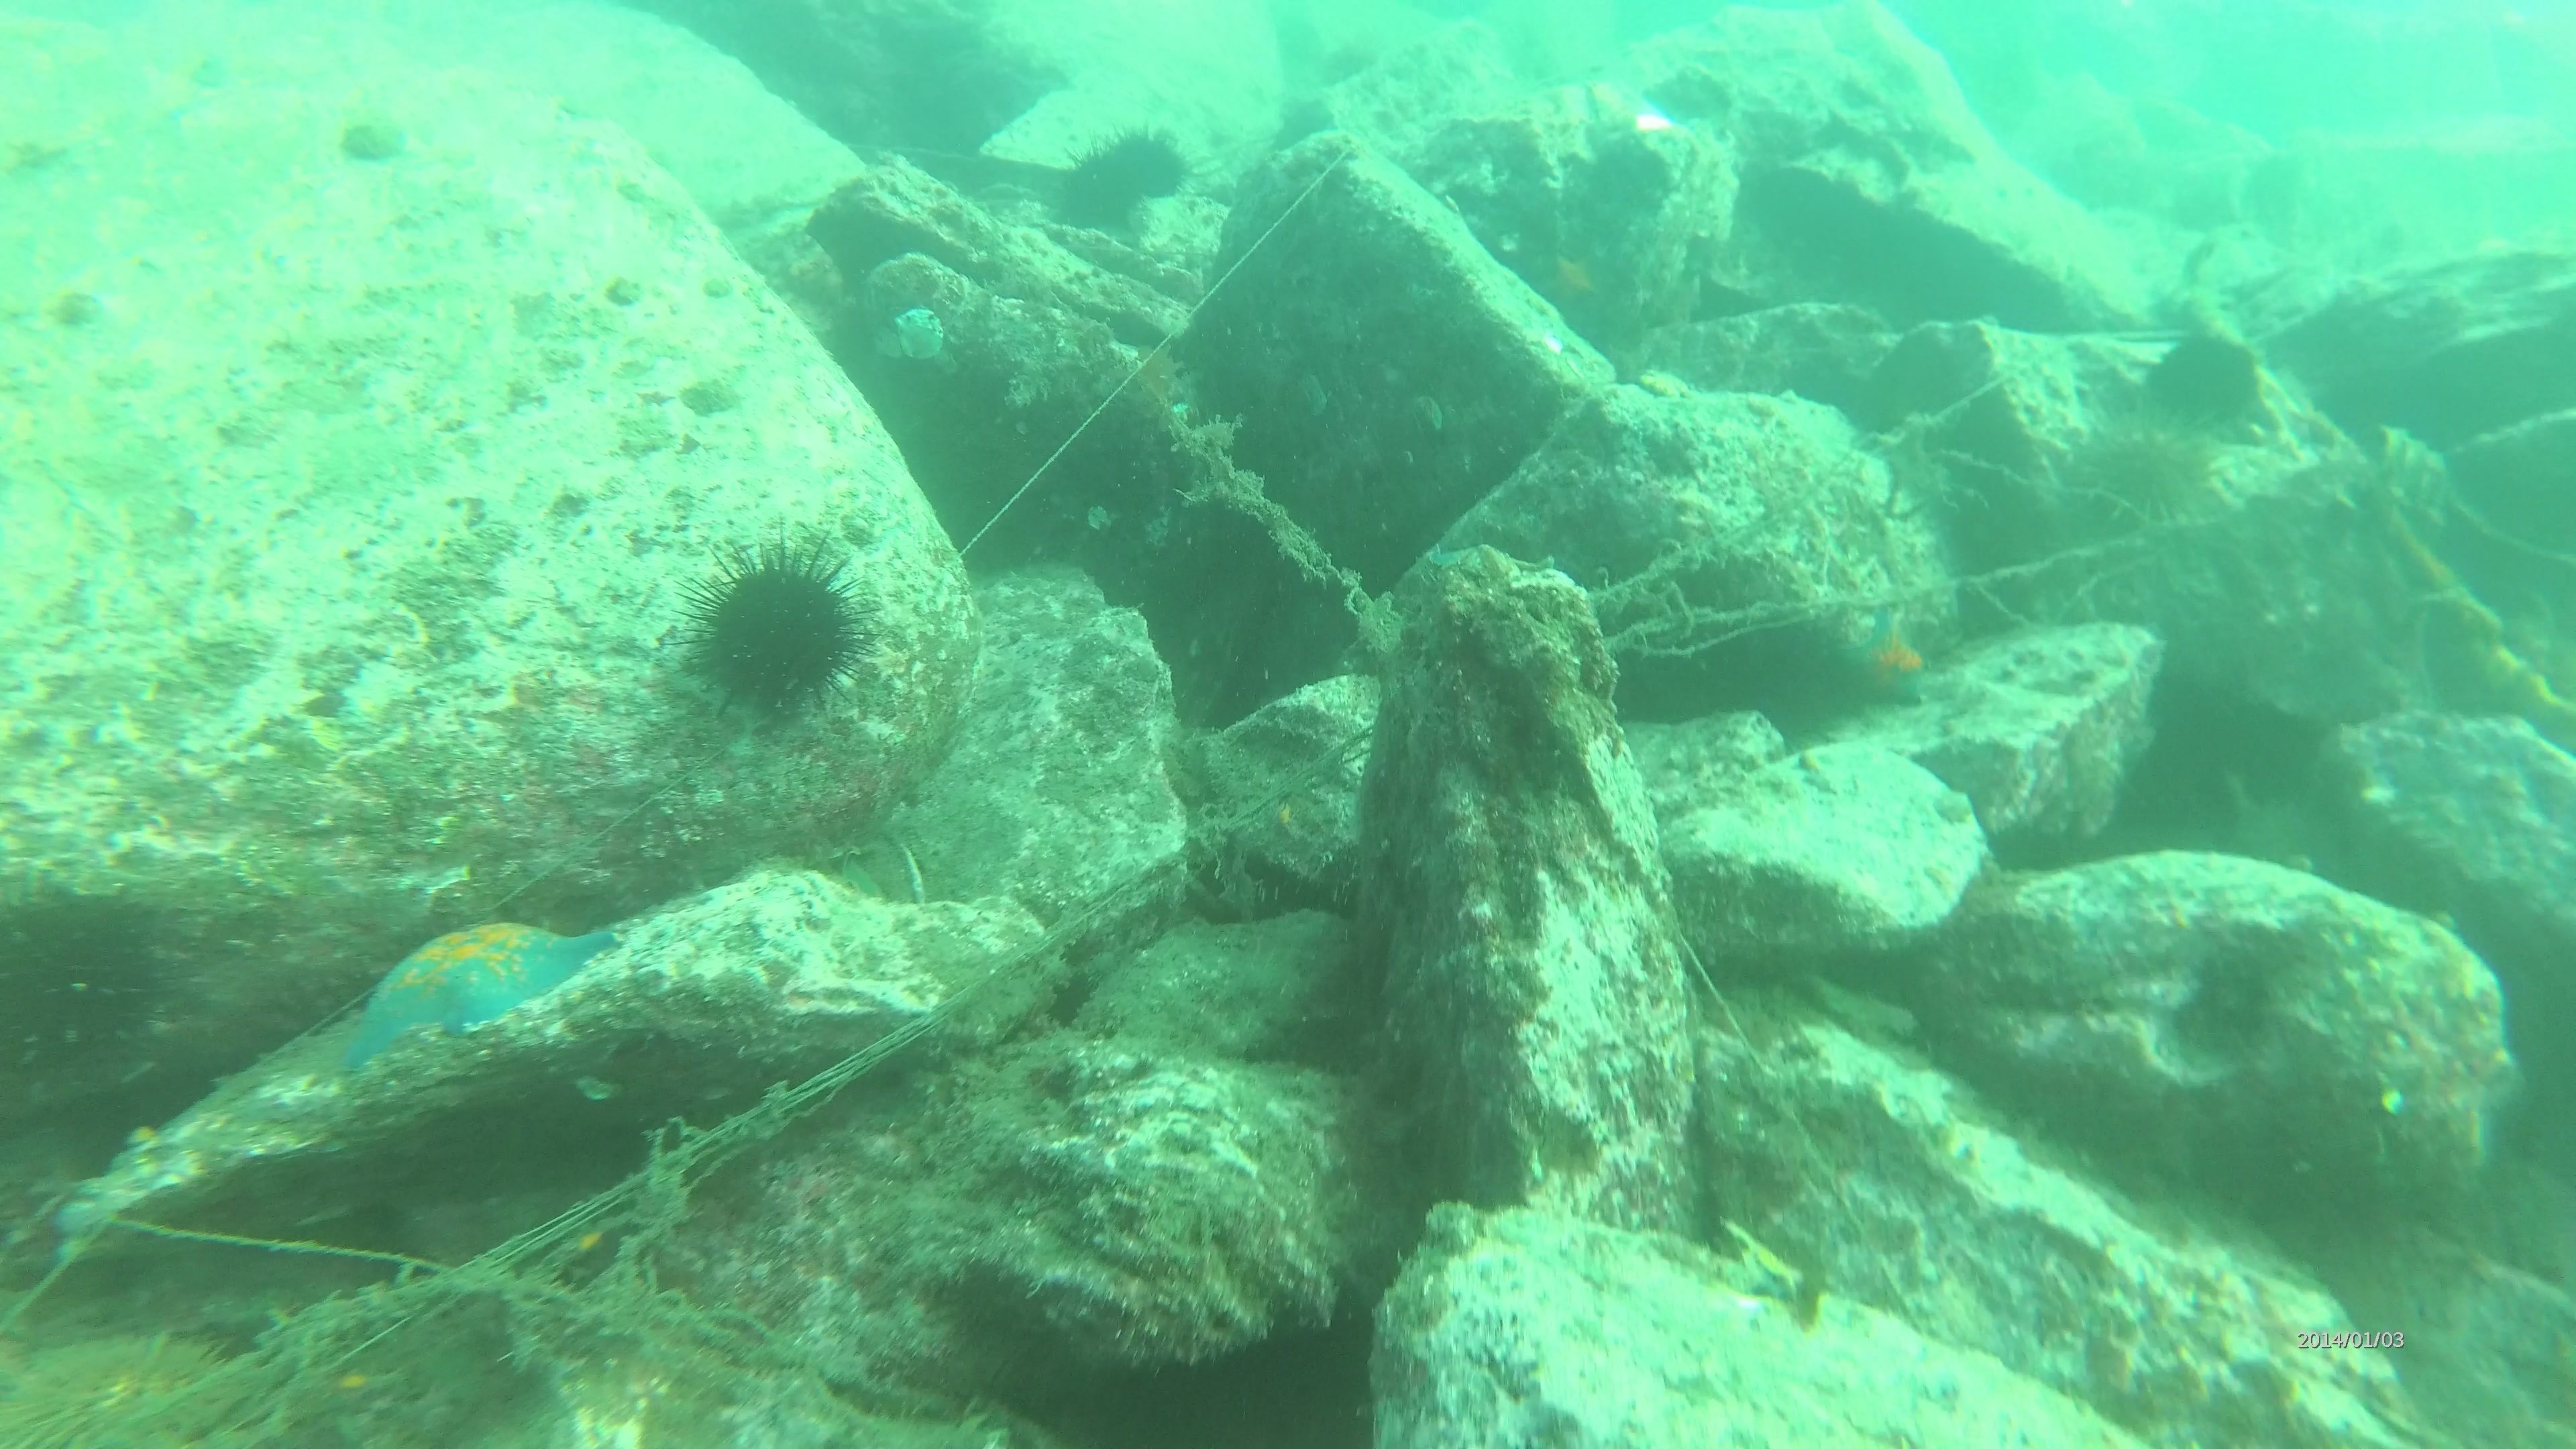echinus: (678, 538, 874, 722), (0, 881, 172, 1085), (5, 1320, 253, 1445), (2052, 412, 2226, 541), (2143, 327, 2270, 439), (1046, 150, 1139, 246), (1108, 127, 1200, 203)
starfish: (331, 904, 621, 1077), (1836, 605, 1944, 713), (1525, 234, 1621, 326)
